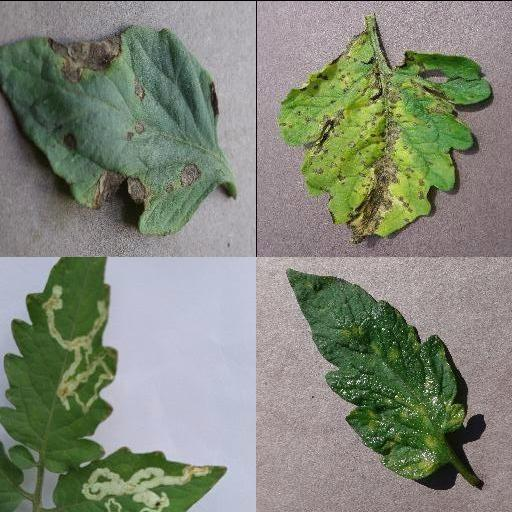Early Blight: (0, 24, 218, 236)
Leaf Miner: (0, 256, 118, 464), (51, 446, 228, 512)
Leaf Mold: (286, 267, 464, 481)
Septoria: (278, 35, 489, 243)
